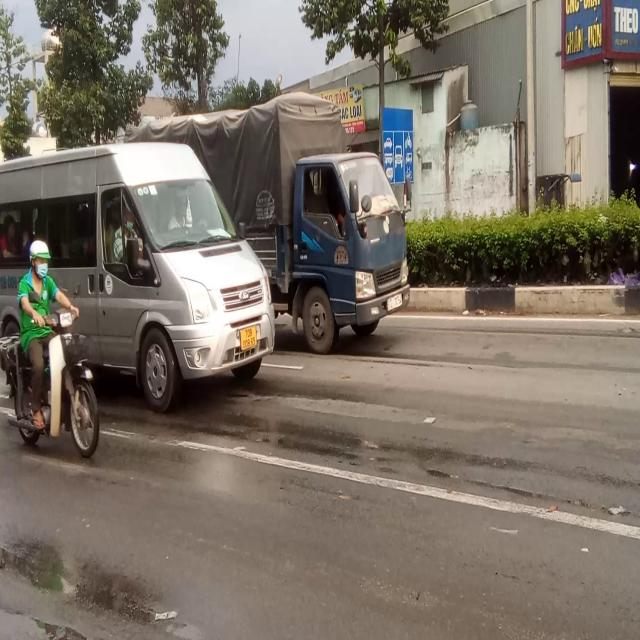bien_trang: (385, 292, 403, 313)
bien_vang: (238, 325, 256, 355)
